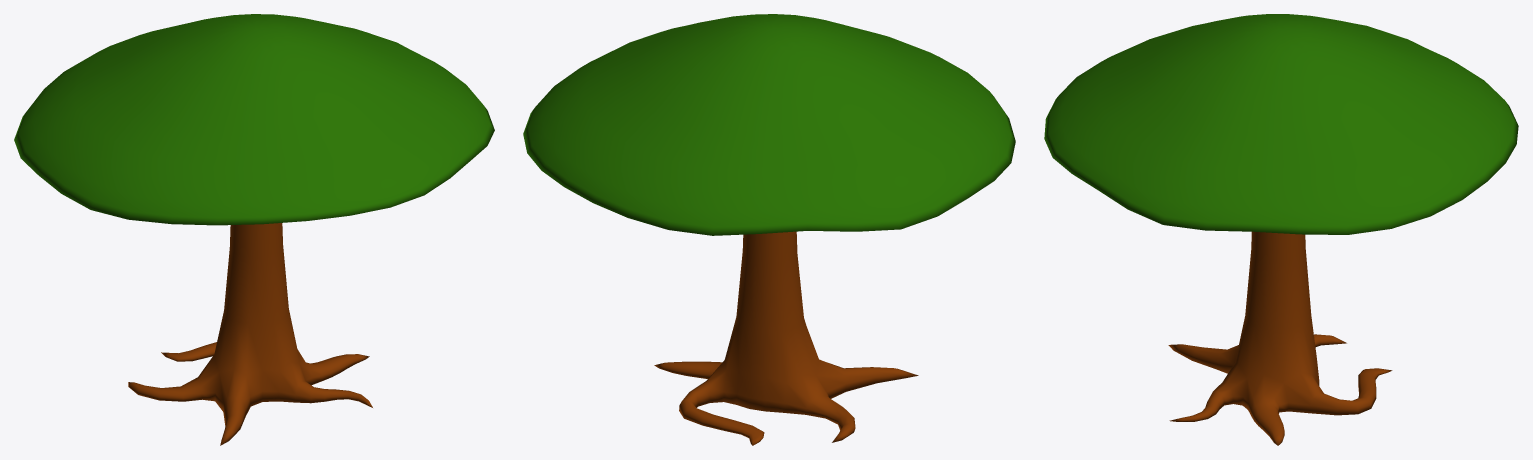
File: shade_tree.glb
3 views of the same model, side by side, from view 1: azimuth 30°, elevation 25°; view 2: azimuth 150°, elevation 25°; view 3: azimuth 270°, elevation 25° (orthographic). The views are drawn at different scales.
Parts seen in each view (by area): view 1: ShadeTree; view 2: ShadeTree; view 3: ShadeTree.
Part boxes in pixels (x1,y1,x2,y2): ShadeTree: (14,14,494,445); ShadeTree: (523,14,1015,445); ShadeTree: (1044,14,1518,445).
Size of the model in its own units: 2.65 by 2.19 by 2.61.
